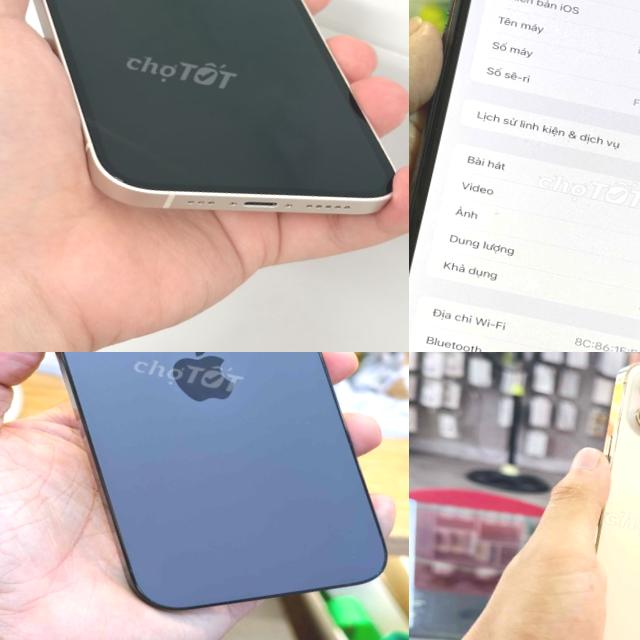gen_11: (409, 0, 640, 352)
gen_12_13: (0, 0, 409, 264), (540, 352, 640, 640)
gen_14: (0, 352, 409, 640)
